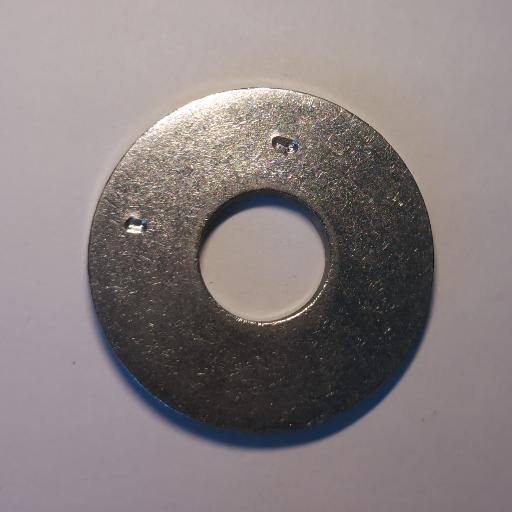circular_cavity: (272, 135, 300, 156), (122, 216, 147, 235)
